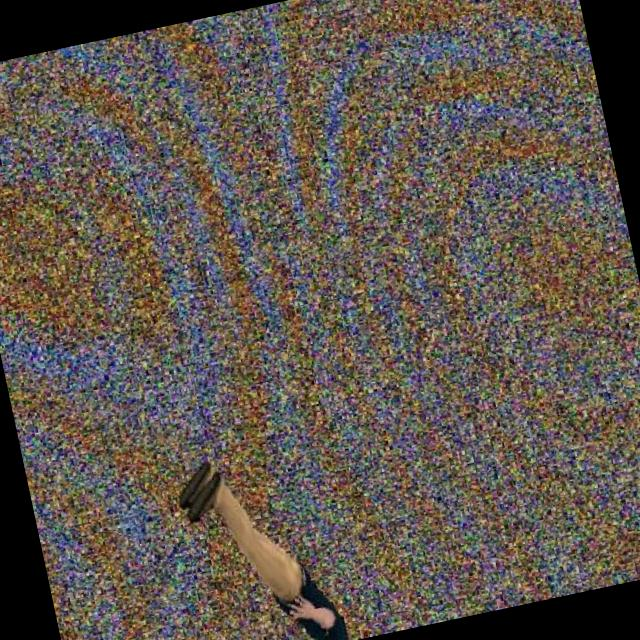Person: (171, 434, 351, 640)
